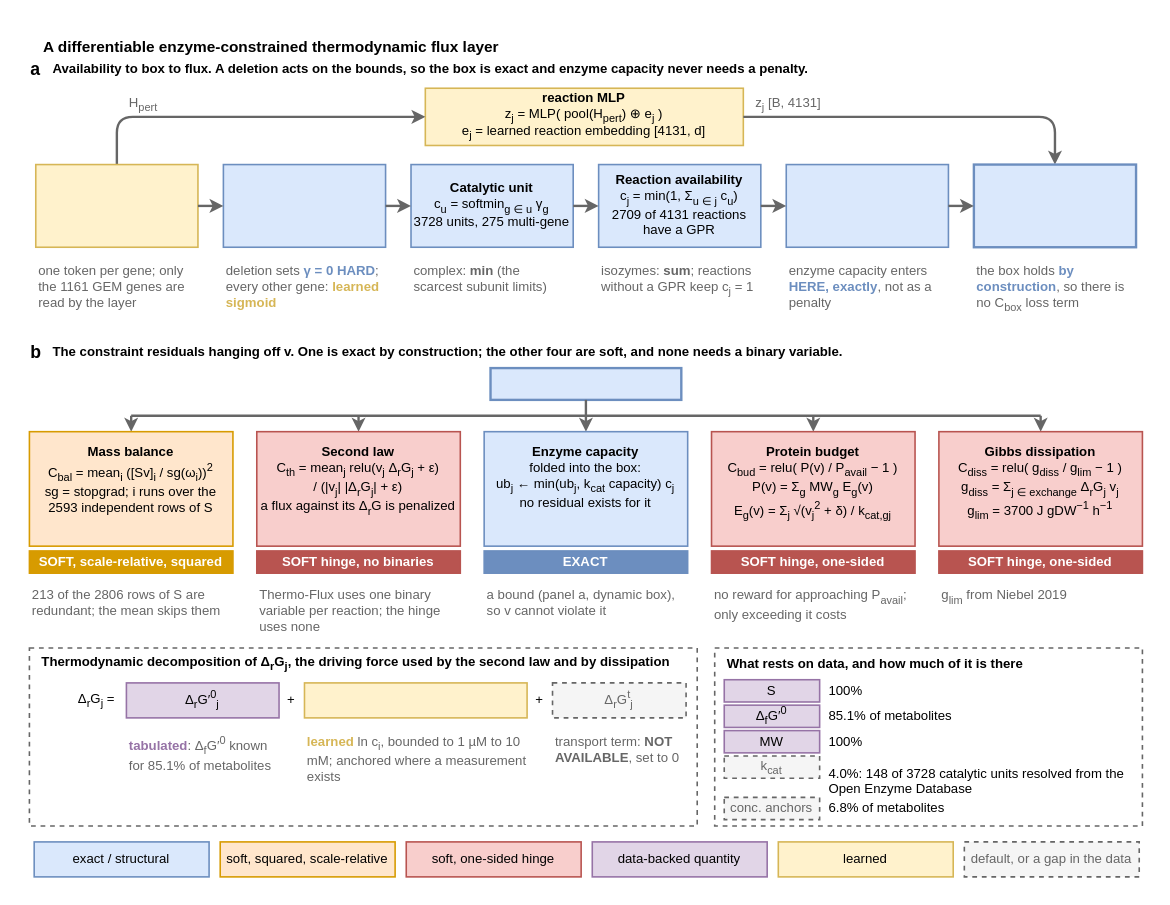
Some shapes in this 1170 by 905 pixel diagram are drawn without their labels. Each missing label, with the box of its shape:
Dynamic box [ lb j c j , min(ub j , k cat capacity) c j ]: (785, 163, 948, 247)
Flux v [B, 4131]: (489, 366, 682, 400)
Flux v j = lb + (ub − lb) σ(z j ) [B, 4131]: (972, 163, 1137, 248)
Gene availability γ g ∈ [0, 1] N = 1161 GEM genes: (222, 163, 386, 247)
Gene tokens H pert [B, N = 6607, d] from the perturbation operator: (34, 163, 198, 247)
RT Σ i S ij ln c i: (303, 681, 527, 718)
